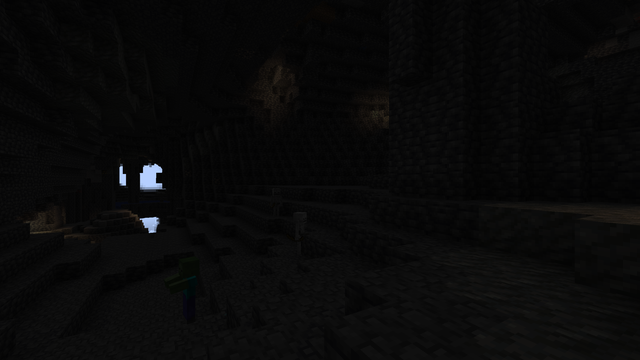squelettes: (291, 211, 307, 254), (270, 188, 280, 216)
zombies: (178, 257, 199, 326)
